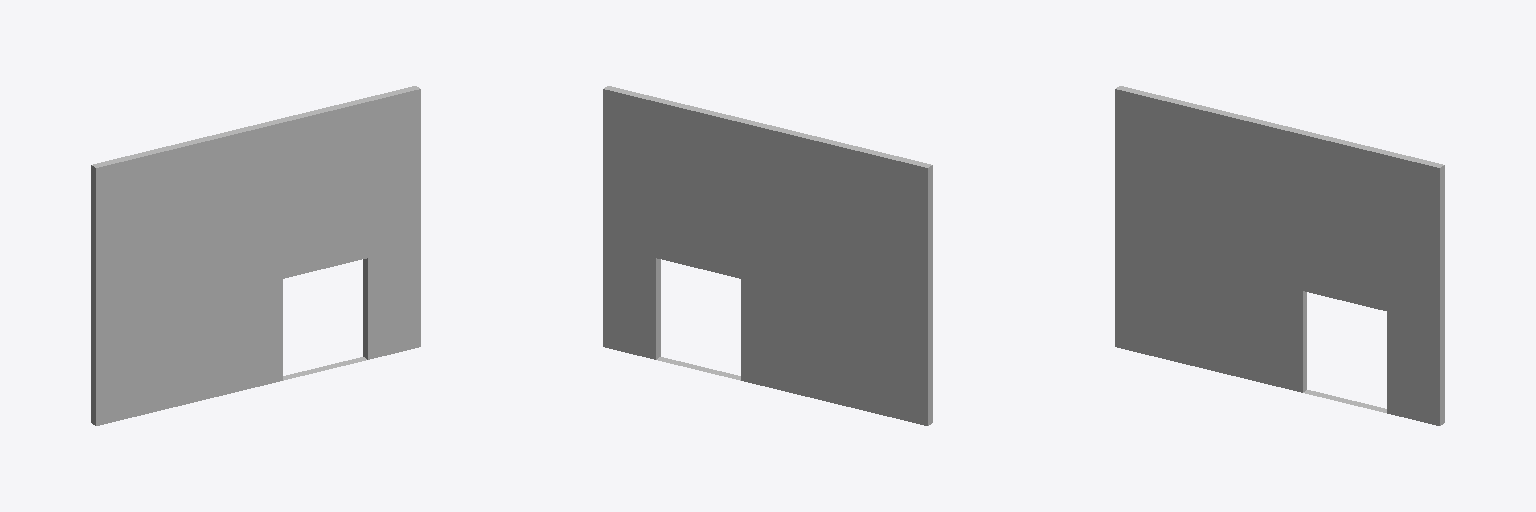
File: doorwall.obj
3 renders of one model, left to right at view 1: azimuth 30°, elevation 25°; view 2: azimuth 150°, elevation 25°; view 3: azimuth 330°, elevation 25°, orthographic.
Parts seen in each view (by area): view 1: Cube_Cube.001; view 2: Cube_Cube.001; view 3: Cube_Cube.001.
Boxes of the visible parts, <box> form: Cube_Cube.001: <box>91,86,420,425</box>; Cube_Cube.001: <box>603,86,932,425</box>; Cube_Cube.001: <box>1115,86,1444,425</box>.
Size of the model in its own units: 17.27 by 13.12 by 0.4276.